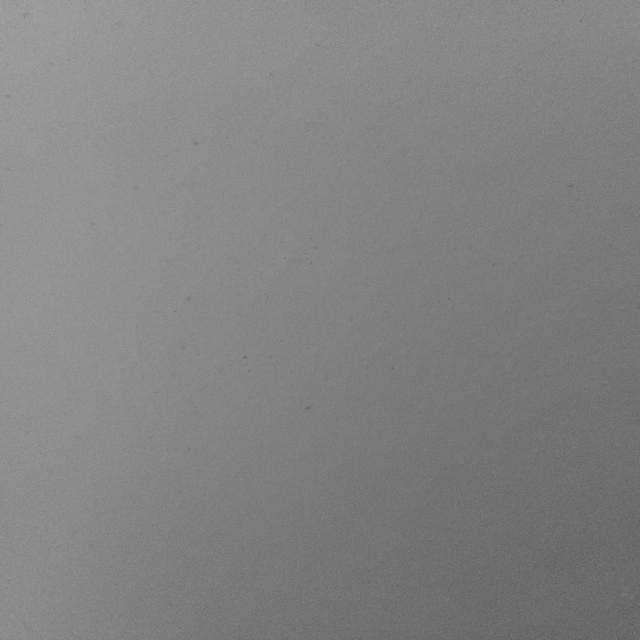rough and patchy surface: (7, 8, 634, 630)
